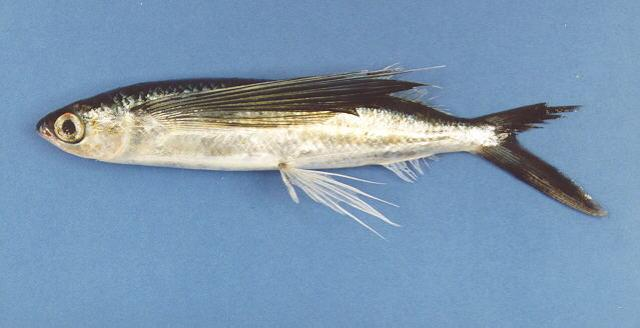Mulut: (22, 114, 62, 148)
Sirip Anal: (372, 144, 452, 190)
Sirip Dada: (123, 48, 450, 132)
Sirip Ekor: (486, 85, 622, 241)
Sirip Perut: (270, 158, 406, 246)
